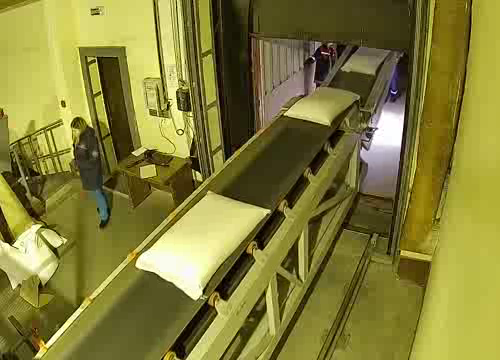bag: (134, 189, 272, 303), (281, 84, 359, 128), (340, 45, 392, 77)
